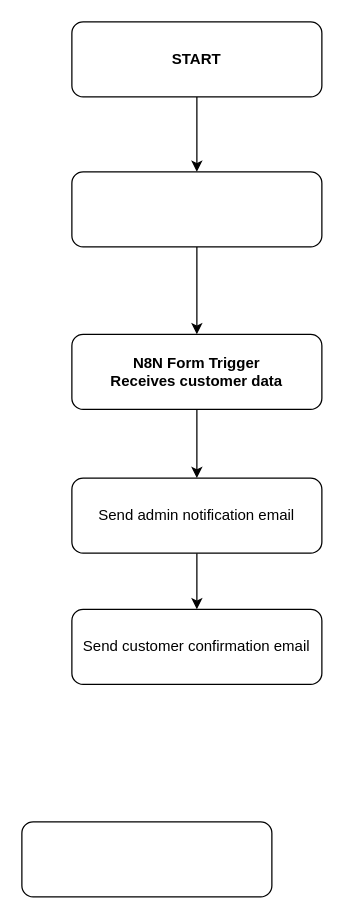
Some shapes in this 344 by 919 pixel diagram are drawn without their labels. Here are the shapes that lost their labels. From the top down, the centre of each, then its label:
At point (196, 209): "Customer submits inquiry form".
At point (146, 859): "END: Inquiry processed".
